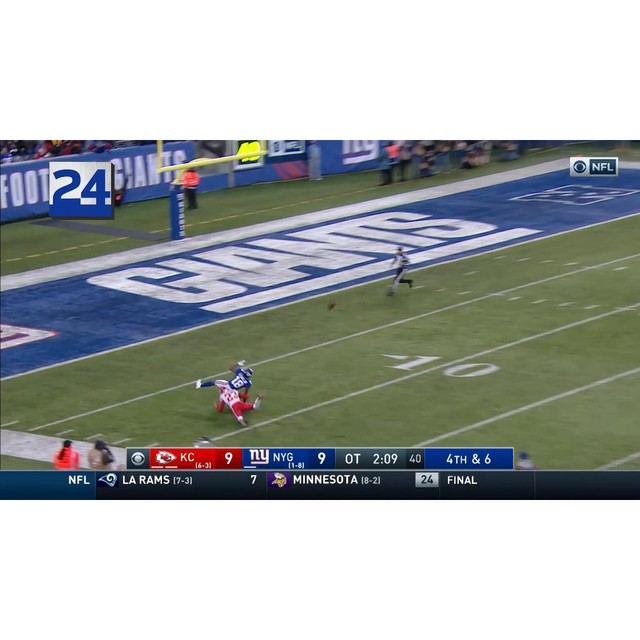american-football-player: (514, 452, 537, 470)
referee: (387, 246, 414, 297)
